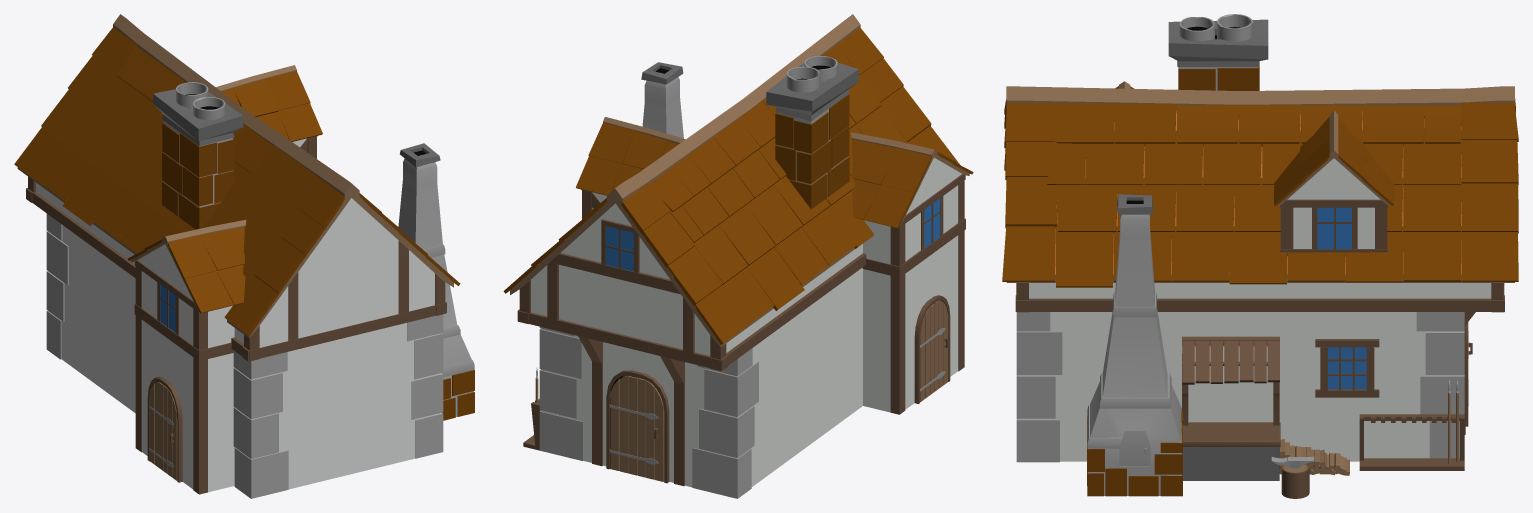
File: House4.fbx
3 views of the same model, side by side, from view 1: azimuth 30°, elevation 25°; view 2: azimuth 150°, elevation 25°; view 3: azimuth 270°, elevation 25° (orthographic). The views are drawn at different scales.
Parts seen in each view (by area): view 1: polySurface848, polySurface1085, polySurface919, polySurface1086, polySurface1115, polySurface898, polySurface856, polySurface1048, polySurface855, polySurface896, polySurface1016, polySurface1050 (+52 smaller); view 2: polySurface848, polySurface1085, polySurface1087, polySurface1048, polySurface1115, polySurface897, polySurface851, polySurface852, polySurface896, polySurface919, polySurface1016, polySurface1050 (+65 smaller); view 3: polySurface848, polySurface919, polySurface879, polySurface895, polySurface910, polySurface1009, polySurface1007, polySurface1115, polySurface1003, polySurface1029, polySurface1006, polySurface1010 (+59 smaller).
Part boxes in pixels (x1,y1,x2,y2): polySurface848: (17, 14, 453, 498); polySurface1085: (131, 240, 234, 492); polySurface919: (398, 143, 473, 416); polySurface1086: (193, 309, 207, 494); polySurface1115: (153, 89, 243, 214); polySurface898: (242, 302, 446, 361); polySurface856: (233, 367, 282, 419); polySurface1048: (119, 144, 176, 222); polySurface855: (233, 407, 278, 458); polySurface896: (26, 188, 259, 361); polySurface1016: (62, 164, 118, 225); polySurface1050: (92, 124, 147, 183); polySurface848: (510, 14, 862, 498); polySurface1085: (863, 153, 969, 412); polySurface1087: (890, 224, 905, 414); polySurface1048: (746, 176, 830, 245); polySurface1115: (766, 55, 858, 195); polySurface897: (517, 309, 727, 370); polySurface851: (699, 405, 754, 457); polySurface852: (704, 361, 758, 416); polySurface896: (710, 253, 866, 370); polySurface919: (641, 62, 683, 138); polySurface1016: (747, 247, 804, 310); polySurface1050: (719, 205, 775, 265); polySurface848: (1006, 86, 1514, 470); polySurface919: (1088, 194, 1181, 495); polySurface879: (1182, 366, 1280, 480); polySurface895: (1015, 295, 1504, 311); polySurface910: (1279, 154, 1389, 248); polySurface1009: (1056, 226, 1113, 287); polySurface1007: (1229, 226, 1287, 284); polySurface1115: (1168, 19, 1268, 90); polySurface1003: (1403, 226, 1461, 281); polySurface1029: (1056, 178, 1117, 233); polySurface1006: (1172, 226, 1229, 281); polySurface1010: (1002, 226, 1055, 281).
Size of the model in its own units: 111 by 116 by 150.
